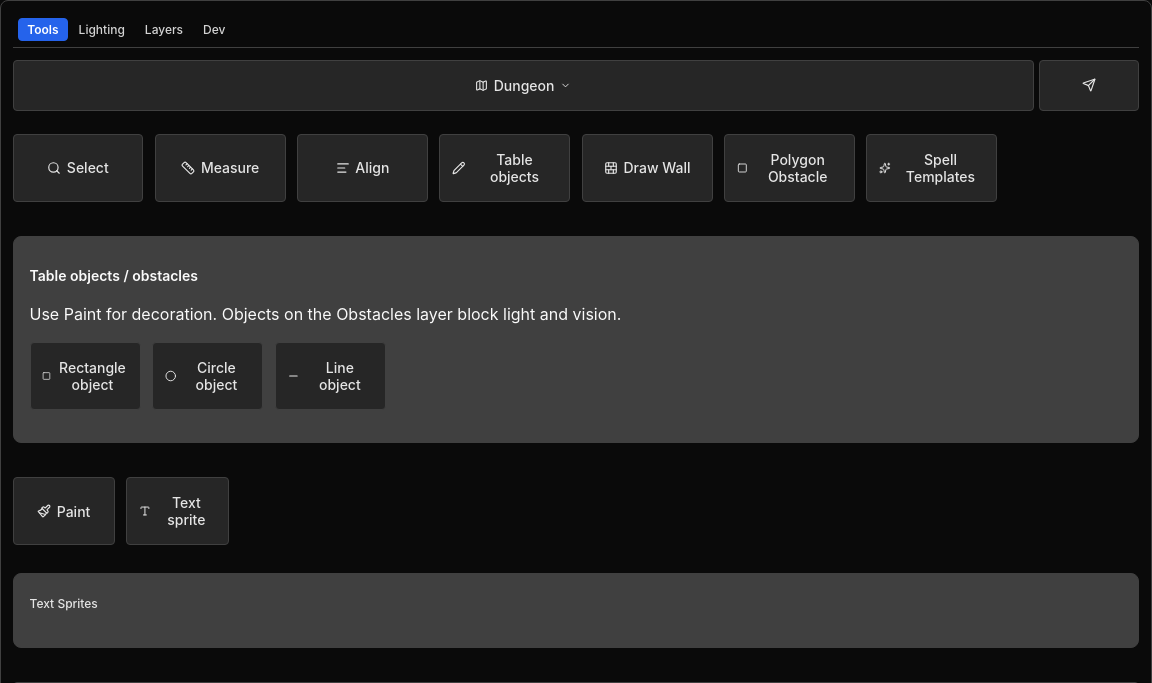
Test case: ToolsPanel — table switcher › shows table switcher dropdown when DM has multiple tables
# click opens dropdown
Click the button titled "Switch table": (523, 85) x1=12 y1=60 x2=1034 y2=110
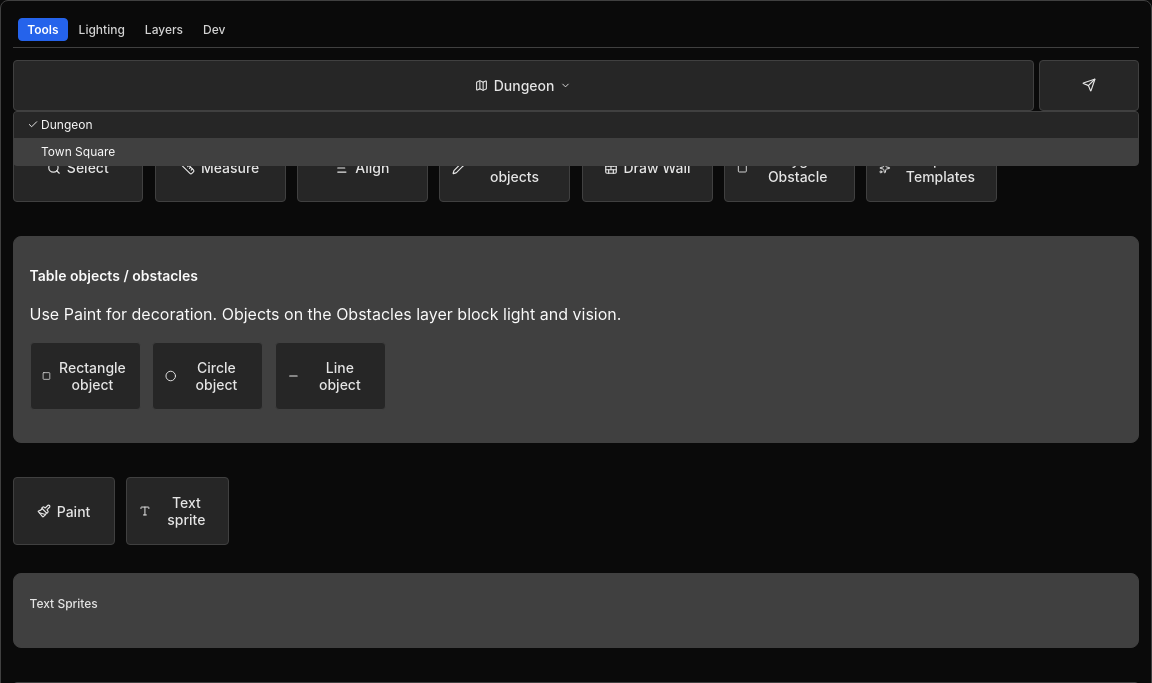
Check: the button "Town Square" is shown, box x1=14 y1=138 x2=1138 y2=164
